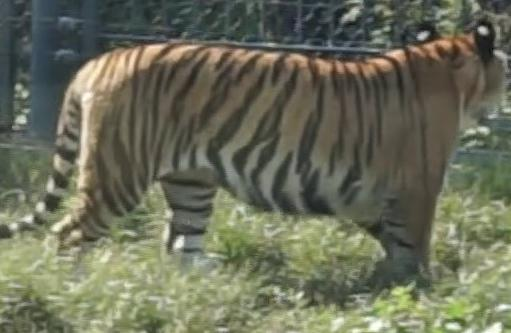tiger: (52, 19, 504, 287)
